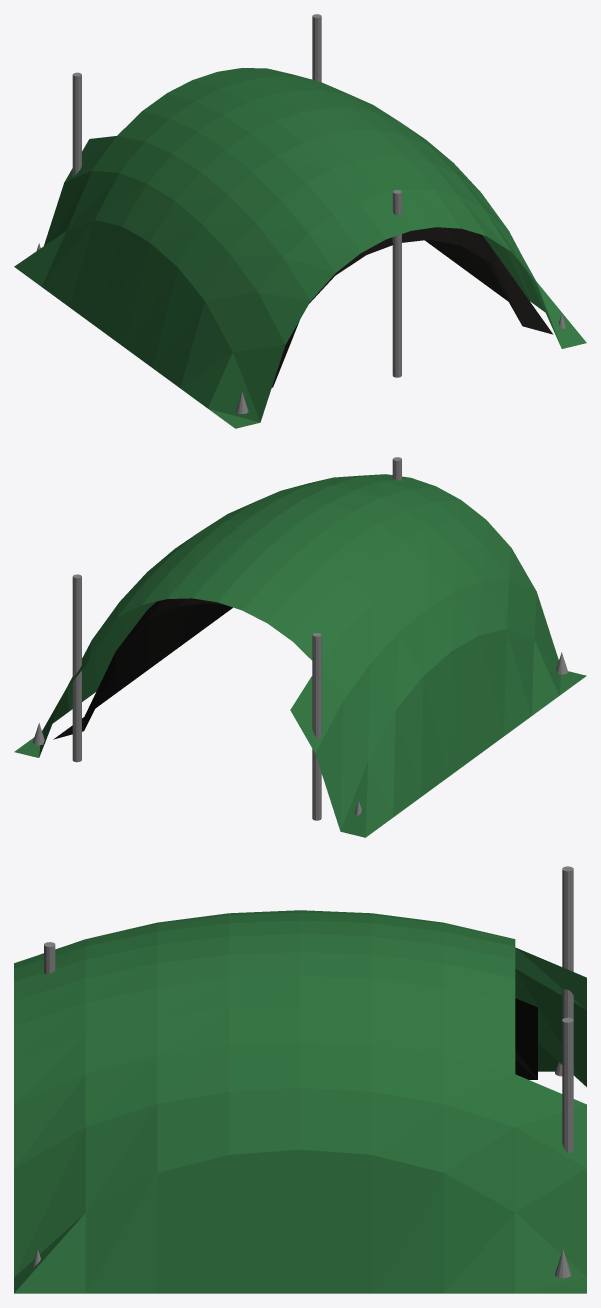
File: small_dome_tent_open.obj
3 renders of one model, top to bottom at view 1: azimuth 30°, elevation 25°; view 2: azimuth 150°, elevation 25°; view 3: azimuth 270°, elevation 25°, orthographic. The views are drawn at different scales.
Parts seen in each view (by area): view 1: open_dome_tent_shell, inner_shadow_shell, rear_pole, front_pole_-0.75, front_pole_0.75; view 2: open_dome_tent_shell, inner_shadow_shell, front_pole_0.75, front_pole_-0.75; view 3: open_dome_tent_shell, inner_shadow_shell, front_pole_0.75, front_pole_-0.75.
Boxes of the visible parts, x1,y1,x2,y2 form: open_dome_tent_shell: (14, 68, 586, 428); inner_shadow_shell: (272, 227, 553, 387); rear_pole: (392, 190, 401, 377); front_pole_-0.75: (72, 72, 81, 176); front_pole_0.75: (312, 14, 321, 81); open_dome_tent_shell: (14, 474, 586, 837); inner_shadow_shell: (53, 598, 232, 739); front_pole_0.75: (72, 574, 81, 762); front_pole_-0.75: (312, 633, 321, 820); open_dome_tent_shell: (14, 910, 586, 1293); inner_shadow_shell: (515, 998, 537, 1079); front_pole_0.75: (562, 1017, 573, 1153); front_pole_-0.75: (562, 866, 573, 1019).
Bounding box in the file's own units: 2.2 × 1.15 × 2.4.
